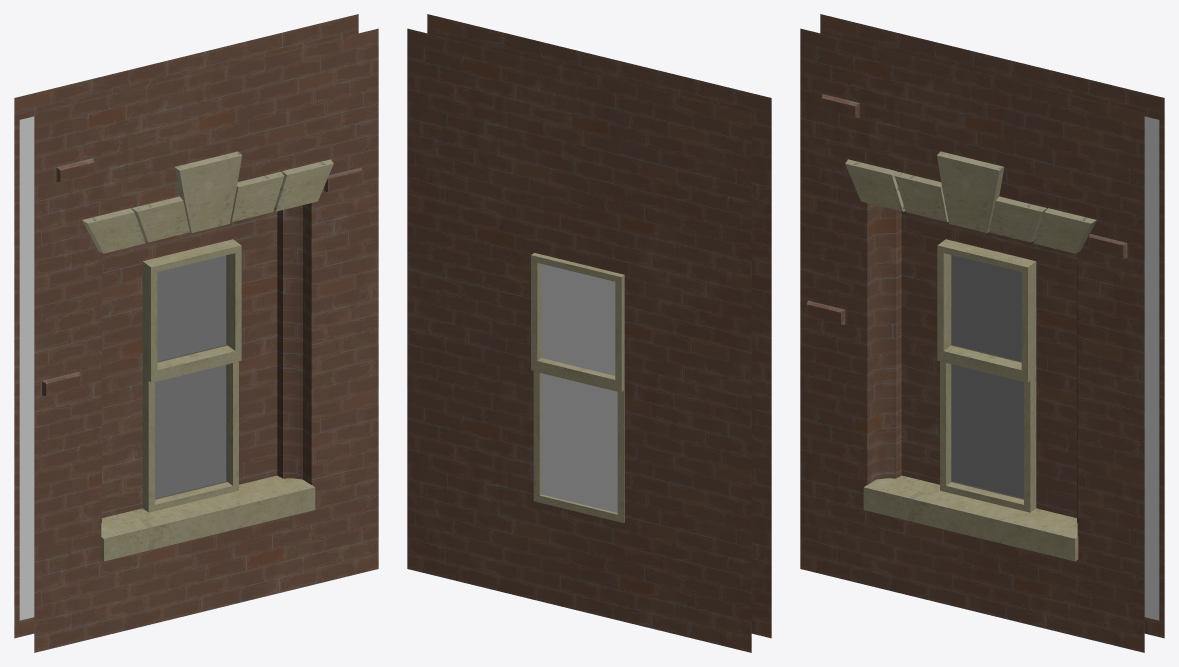
The model's file is Brick_Window_Trim_Single.gltf.
The picture shows the model from 3 angles, left to right: view 1: azimuth 30°, elevation 25°; view 2: azimuth 150°, elevation 25°; view 3: azimuth 330°, elevation 25°; orthographic projection.
Visible parts, largest first — view 1: Brick_Window_Trim_Single; view 2: Brick_Window_Trim_Single; view 3: Brick_Window_Trim_Single.
Part boxes in pixels (x1,y1,x2,y2): Brick_Window_Trim_Single: [14, 14, 378, 652]; Brick_Window_Trim_Single: [407, 14, 771, 652]; Brick_Window_Trim_Single: [800, 14, 1164, 652].
Bounding box in the file's own units: 2 × 3 × 0.2769.
5 materials, 3 textured.
